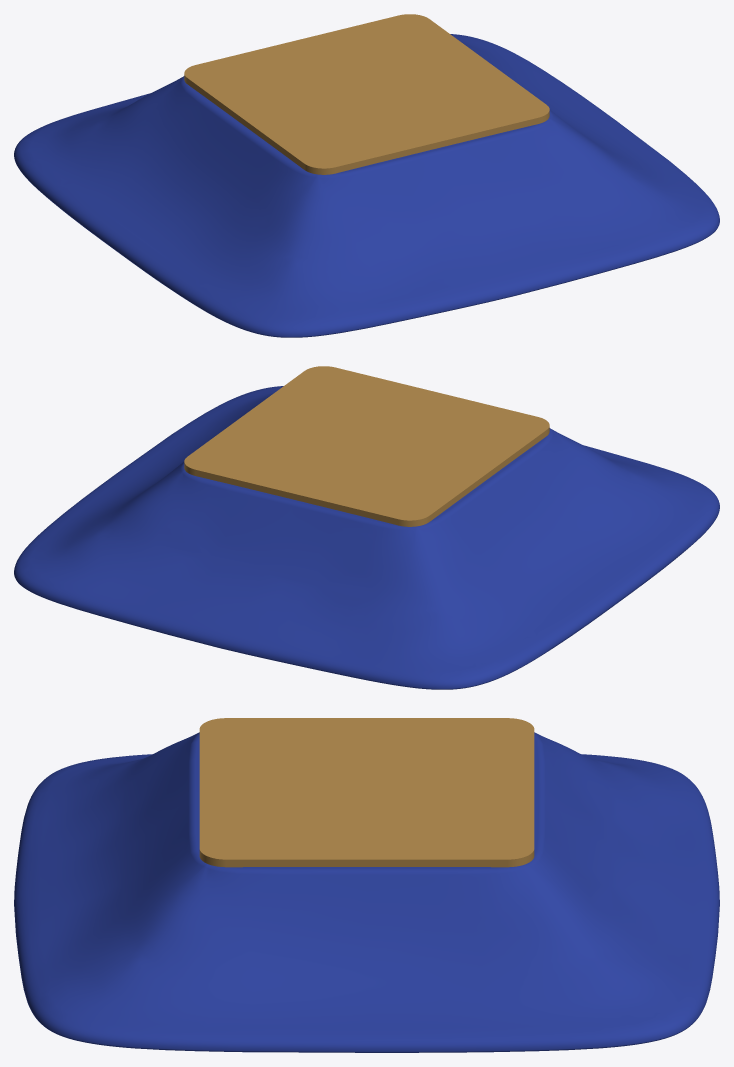
File: 638_こたつ.glb
3 views of the same model, one above another, from view 1: azimuth 30°, elevation 25°; view 2: azimuth 150°, elevation 25°; view 3: azimuth 270°, elevation 25° (orthographic). The views are drawn at different scales.
Visible parts, largest first — view 1: huton, top; view 2: huton, top; view 3: huton, top.
Boxes of the visible parts, x1,y1,x2,y2 form: huton: (14, 34, 719, 337); top: (184, 14, 549, 174); huton: (14, 386, 719, 689); top: (184, 366, 549, 526); huton: (14, 732, 719, 1052); top: (199, 718, 534, 867).
Size of the model in its own units: 2.09 by 0.39 by 2.11.
